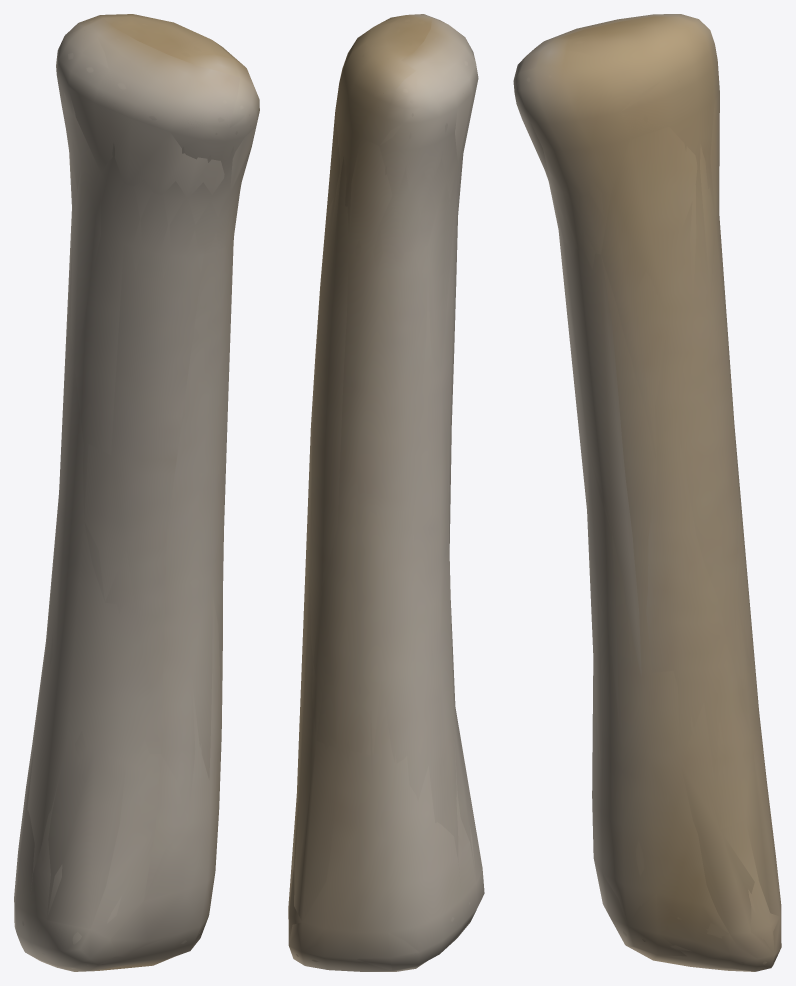
The model's file is L metacarpi tertium.fbx.
3 views of the same model, side by side, from view 1: azimuth 30°, elevation 25°; view 2: azimuth 150°, elevation 25°; view 3: azimuth 270°, elevation 25° (orthographic). The views are drawn at different scales.
Parts seen in each view (by area): view 1: L metacarpi tertium low, L metacarpi tertium, L metacarpi tertium high; view 2: L metacarpi tertium low, L metacarpi tertium, L metacarpi tertium high; view 3: L metacarpi tertium, L metacarpi tertium low, L metacarpi tertium high.
Part boxes in pixels (x1,y1,x2,y2): L metacarpi tertium low: [16, 14, 257, 971]; L metacarpi tertium: [14, 14, 259, 971]; L metacarpi tertium high: [22, 16, 251, 969]; L metacarpi tertium low: [288, 15, 483, 970]; L metacarpi tertium: [288, 14, 484, 971]; L metacarpi tertium high: [291, 16, 474, 969]; L metacarpi tertium: [513, 14, 781, 971]; L metacarpi tertium low: [513, 14, 781, 971]; L metacarpi tertium high: [516, 17, 775, 970].
Bounding box in the file's own units: 1.18 × 6.33 × 1.65.
